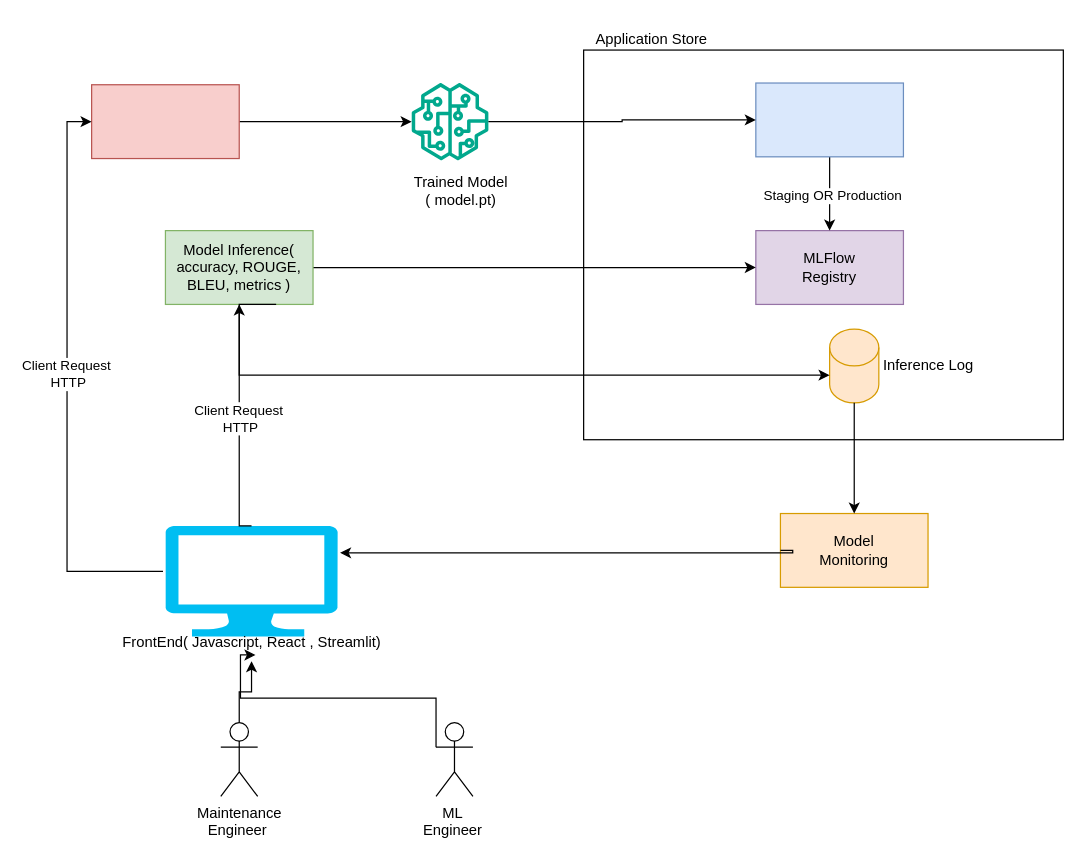
This 1085x861 diagram has some shape labels left out. Here are the shapes that lost their labels. From the top down, the centre of each, then its label:
point (164, 121): Model Training ( TPU, GPU heavy)
point (829, 119): MLFlow Experiments
